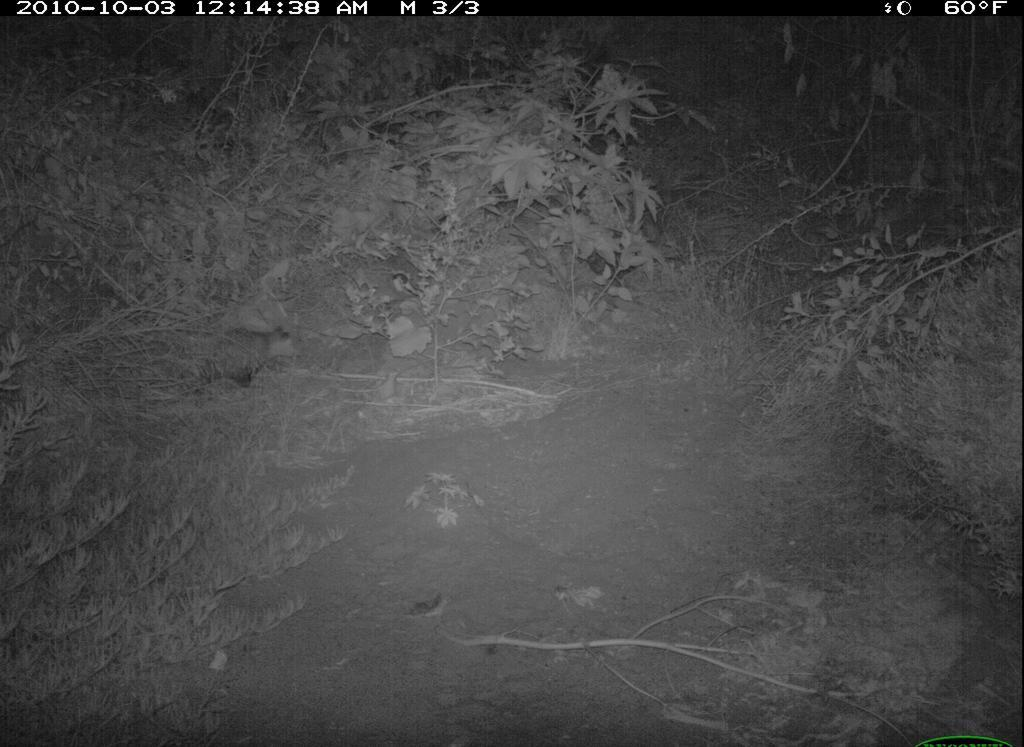opossum: (165, 322, 310, 398)
